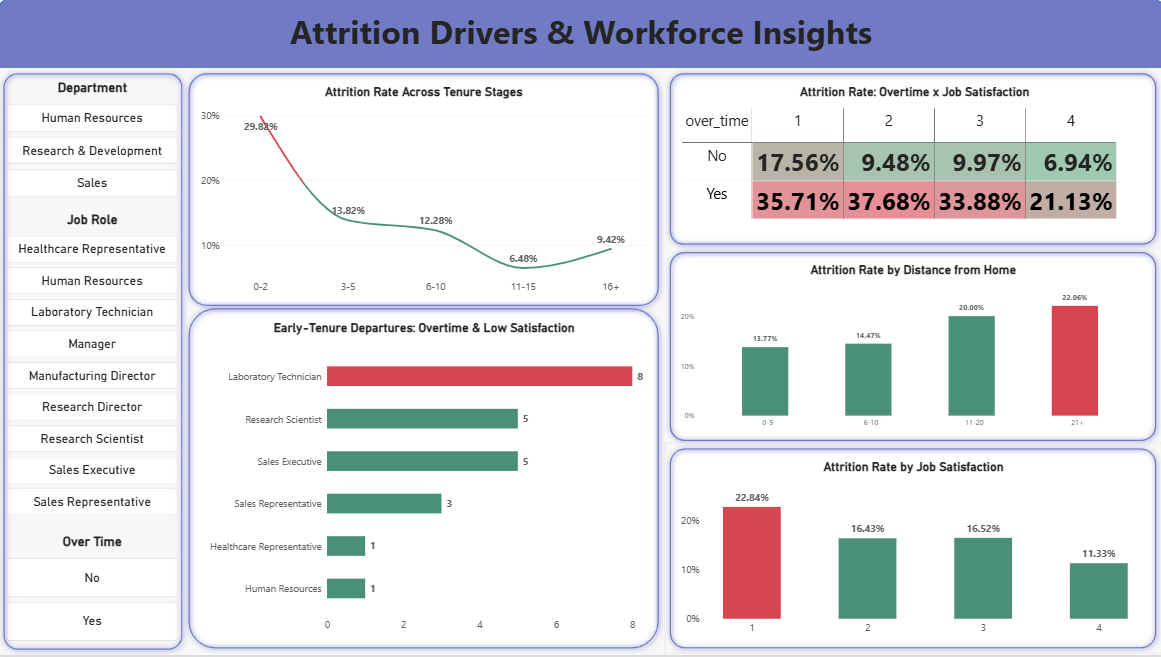

Layout of this report page (visuals, bound fields, positions):
{"tool":"powerbi","page":{"name":"Attrition Drivers & Workforce Insights","canvas":[1920,1080],"ordinal":1},"visuals":[{"type":"shape","box":[0,0,1920.4,113.2],"z":0},{"type":"textbox","box":[0,16.5,1920.4,96.7],"z":1000},{"type":"lineChart","title":"Attrition Rate Across Tenure Stages","fields":{"Category":["public hr_employee_data.tenure_group"],"Y":["public hr_employee_data.Attrition Rate"]},"box":[317,125.6,767,381],"z":2000},{"type":"clusteredColumnChart","title":"Attrition Rate by Job Satisfaction","fields":{"Category":["public hr_employee_data.job_satisfaction"],"Y":["public hr_employee_data.Attrition Rate"]},"box":[1107.4,743.1,798.6,325.2],"z":3000},{"type":"pivotTable","title":"Attrition Rate: Overtime x Job Satisfaction","fields":{"Columns":["public hr_employee_data.job_satisfaction"],"Rows":["public hr_employee_data.over_time"],"Values":["public hr_employee_data.Attrition Rate"]},"box":[1109.4,125.6,798.6,275.8],"z":4000},{"type":"clusteredColumnChart","title":"Attrition Rate by Distance from Home","fields":{"Category":["public hr_employee_data.distance_group"],"Y":["public hr_employee_data.Attrition Rate"]},"box":[1107.4,417.8,798,310],"z":5000},{"type":"clusteredBarChart","title":"Early-Tenure Departures: Overtime & Low Satisfaction","fields":{"Category":["public hr_employee_data.job_role"],"Y":["public hr_employee_data.High-Priority Employees"]},"box":[317,514.6,767.8,549.6],"z":6000},{"type":"advancedSlicerVisual","title":"Department","fields":{"Values":["public hr_employee_data.department"]},"box":[14.4,133.8,282,193.5],"z":7000},{"type":"advancedSlicerVisual","title":"Job Role","fields":{"Values":["public hr_employee_data.job_role"]},"box":[14.4,349.9,282,504.3],"z":8000},{"type":"advancedSlicerVisual","title":"Over Time","fields":{"Values":["public hr_employee_data.over_time"]},"box":[14.4,881,282,177],"z":9000},{"type":"shape","box":[0,113.2,312.9,967.4],"z":10000},{"type":"shape","box":[304.6,113.2,792.5,401.4],"z":10001},{"type":"shape","box":[304.6,500.2,792.5,578.4],"z":10002},{"type":"shape","box":[1097.1,113.2,819.2,300.5],"z":10003},{"type":"shape","box":[1097.1,407.5,819.2,329.3],"z":10004},{"type":"shape","box":[1097.1,730.7,819.2,347.9],"z":10005}]}

Visuals, with their boxes in screenshot pixels (x1, y1, x2, y2), scaled from the page's 1920x1080 canvas onto the 1161x657 screenshot:
shape: bbox=(0, 0, 1160, 69)
textbox: bbox=(0, 10, 1160, 69)
"Attrition Rate Across Tenure Stages" lineChart: bbox=(192, 76, 655, 308)
"Attrition Rate by Job Satisfaction" clusteredColumnChart: bbox=(670, 452, 1153, 650)
"Attrition Rate: Overtime x Job Satisfaction" pivotTable: bbox=(671, 76, 1154, 244)
"Attrition Rate by Distance from Home" clusteredColumnChart: bbox=(670, 254, 1152, 443)
"Early-Tenure Departures: Overtime & Low Satisfaction" clusteredBarChart: bbox=(192, 313, 656, 647)
"Department" advancedSlicerVisual: bbox=(9, 81, 179, 199)
"Job Role" advancedSlicerVisual: bbox=(9, 213, 179, 520)
"Over Time" advancedSlicerVisual: bbox=(9, 536, 179, 644)
shape: bbox=(0, 69, 189, 656)
shape: bbox=(184, 69, 663, 313)
shape: bbox=(184, 304, 663, 656)
shape: bbox=(663, 69, 1159, 252)
shape: bbox=(663, 248, 1159, 448)
shape: bbox=(663, 445, 1159, 656)
